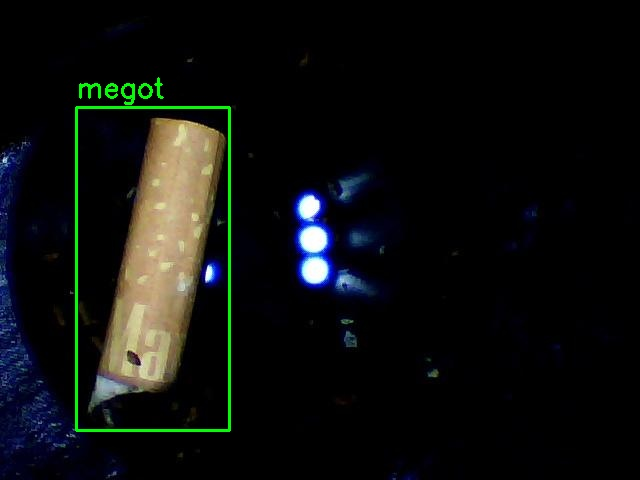megot: (76, 107, 229, 430)
